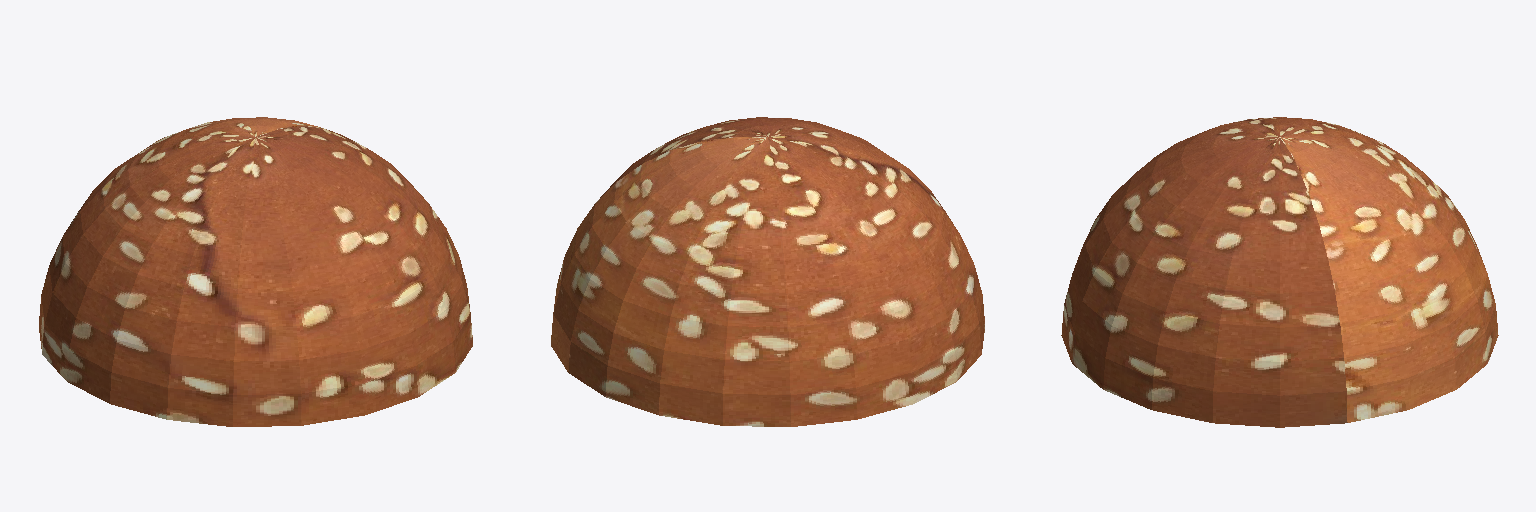
3 views of the same model, side by side, from view 1: azimuth 30°, elevation 25°; view 2: azimuth 150°, elevation 25°; view 3: azimuth 270°, elevation 25° (orthographic).
Visible parts, largest first — view 1: pSphere1; view 2: pSphere1; view 3: pSphere1.
Boxes of the visible parts, box(x1,y1,x2,y2) form: pSphere1: box(39, 117, 472, 426); pSphere1: box(551, 117, 984, 426); pSphere1: box(1061, 117, 1498, 427).
Bounding box in the file's own units: 2 × 1.2 × 2.
Materials: 1 (1 with a texture image).